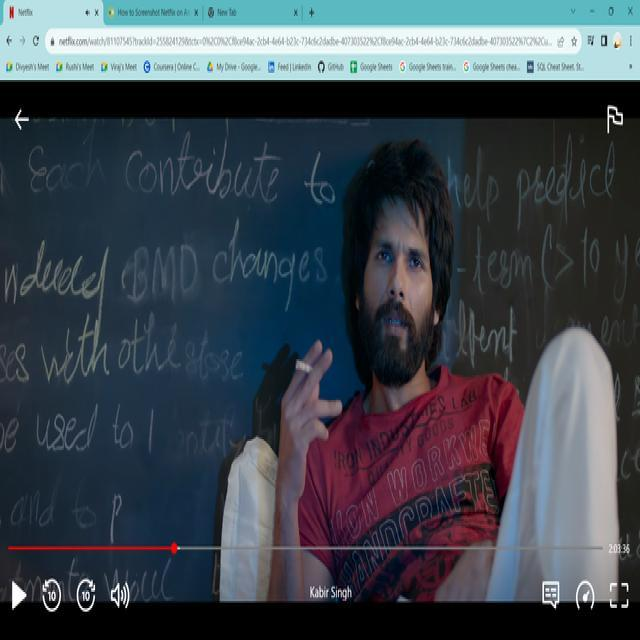smoking: (289, 359, 320, 381)
